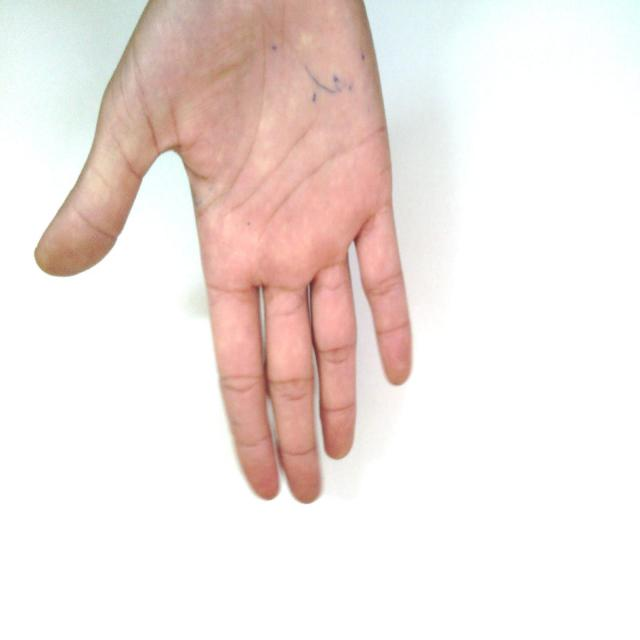others: (20, 2, 556, 506)
